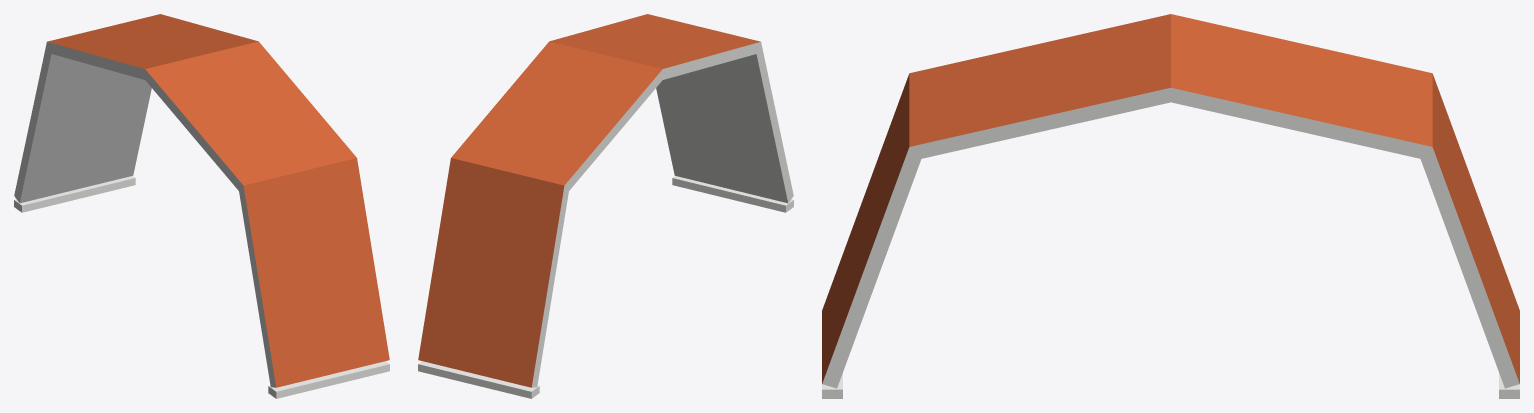
Rendered from telhado_mansarda_v4_1m.glb.
3 views of the same model, side by side, from view 1: azimuth 30°, elevation 25°; view 2: azimuth 150°, elevation 25°; view 3: azimuth 270°, elevation 25° (orthographic). The views are drawn at different scales.
Parts seen in each view (by area): view 1: telhado_mansarda_v4_1m; view 2: telhado_mansarda_v4_1m; view 3: telhado_mansarda_v4_1m.
Boxes of the visible parts, x1,y1,x2,y2 form: telhado_mansarda_v4_1m: [14, 14, 389, 398]; telhado_mansarda_v4_1m: [418, 14, 793, 398]; telhado_mansarda_v4_1m: [822, 14, 1519, 398].
Bounding box in the file's own units: 1 × 1.97 × 4.
